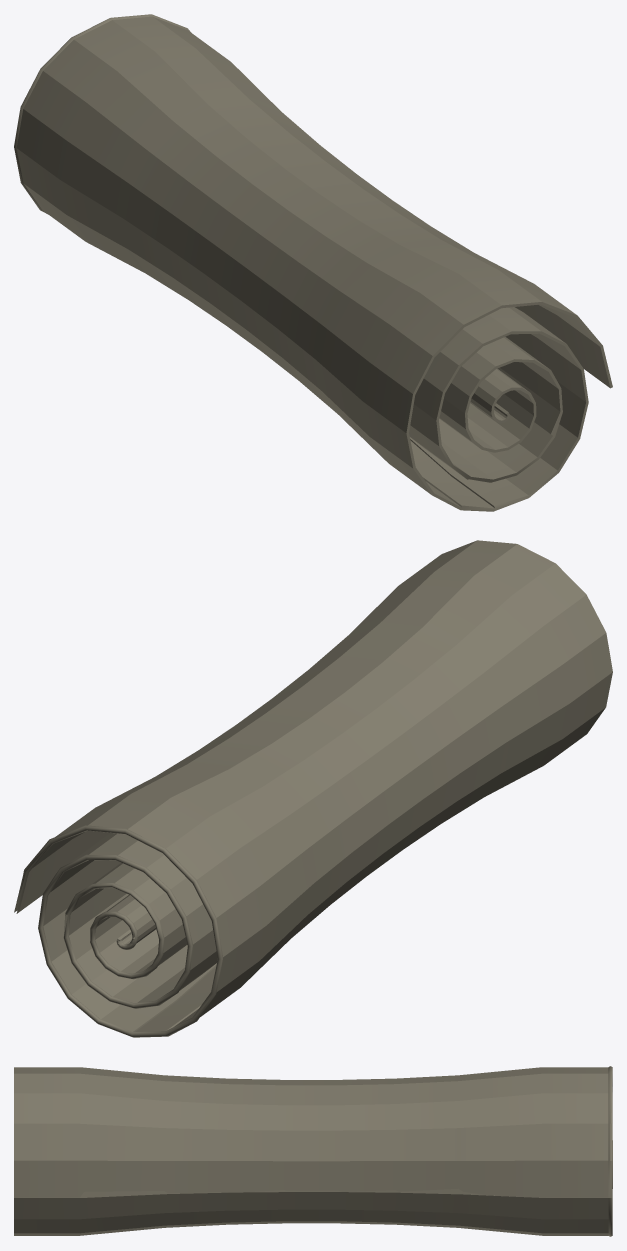
Rendered from Pergamino.fbx.
The picture shows the model from 3 angles, top to bottom: view 1: azimuth 30°, elevation 25°; view 2: azimuth 150°, elevation 25°; view 3: azimuth 270°, elevation 25°; orthographic projection. The views are drawn at different scales.
Visible parts, largest first — view 1: defaultBrush1Main; view 2: defaultBrush1Main; view 3: defaultBrush1Main.
Boxes of the visible parts, x1=… form: defaultBrush1Main: x1=14, y1=14, x2=612, y2=511; defaultBrush1Main: x1=14, y1=540, x2=612, y2=1037; defaultBrush1Main: x1=14, y1=1066, x2=612, y2=1236.
Size of the model in its own units: 9.86 by 9.38 by 32.28.
